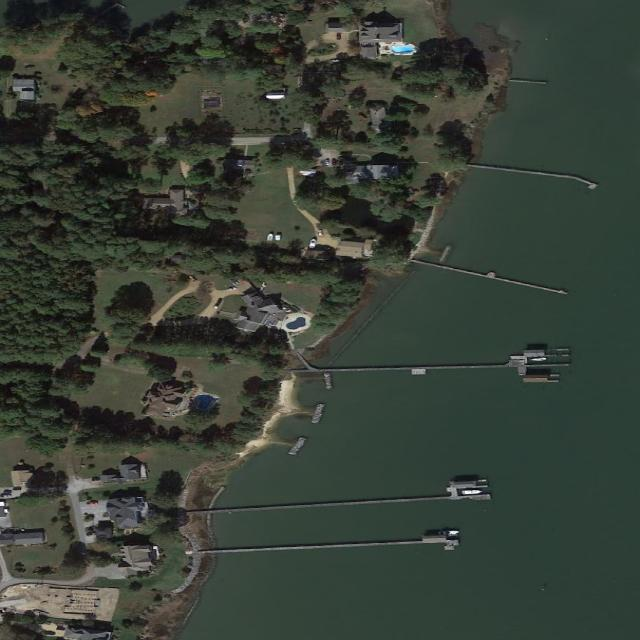ship: (437, 529, 463, 537), (529, 356, 550, 364), (460, 489, 488, 495), (308, 239, 319, 249), (264, 233, 276, 242), (275, 234, 284, 241)
small-vehicle: (224, 286, 239, 293), (316, 229, 327, 238), (88, 502, 99, 505)
